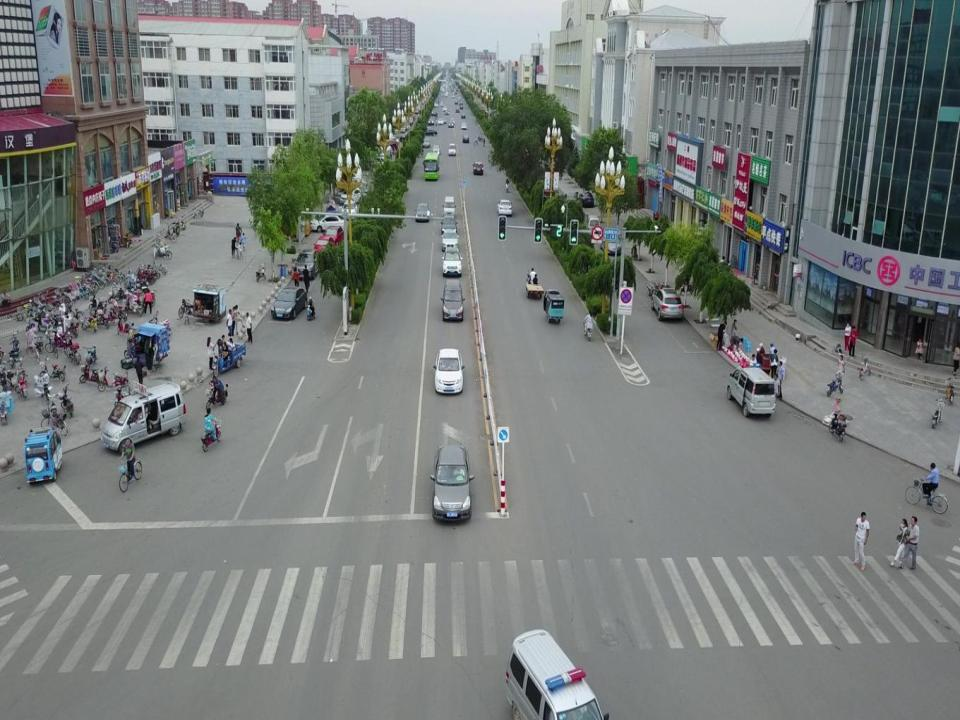bus: (423, 152, 439, 182)
car: (432, 444, 475, 522), (434, 348, 465, 396), (270, 288, 308, 320), (440, 280, 466, 324), (652, 287, 682, 319), (293, 248, 320, 279), (309, 214, 343, 232), (444, 246, 462, 279), (440, 227, 461, 255), (314, 235, 336, 258), (598, 232, 620, 254), (322, 225, 344, 247), (339, 186, 361, 206), (340, 202, 359, 220), (415, 203, 431, 222), (576, 190, 595, 206), (497, 198, 512, 216), (440, 216, 456, 232), (473, 161, 483, 174), (462, 135, 470, 144), (423, 137, 430, 147), (425, 128, 435, 135), (433, 146, 440, 155), (447, 121, 454, 127), (438, 119, 444, 125), (429, 118, 434, 125), (461, 113, 466, 119), (462, 123, 466, 129)
van: (504, 632, 609, 719), (99, 381, 187, 451), (726, 365, 777, 420), (443, 197, 455, 217), (588, 216, 600, 234), (447, 143, 457, 155)
